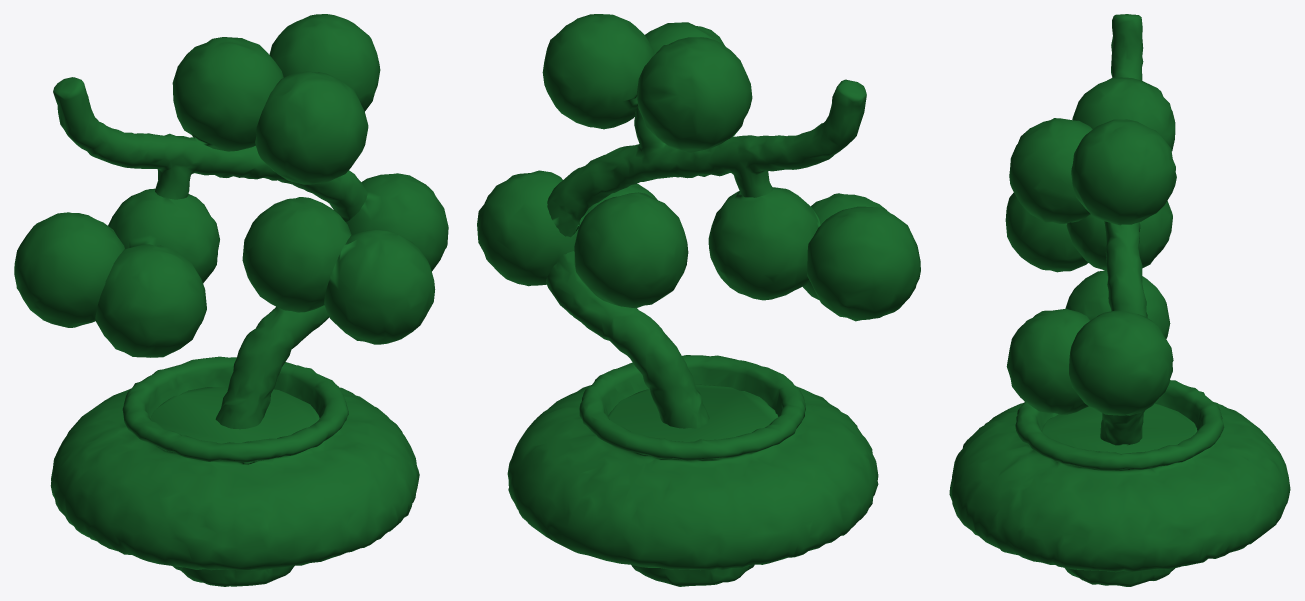
The model's file is sculpted-branches.glb.
3 views of the same model, side by side, from view 1: azimuth 30°, elevation 25°; view 2: azimuth 150°, elevation 25°; view 3: azimuth 270°, elevation 25° (orthographic). The views are drawn at different scales.
Parts seen in each view (by area): view 1: Sculpted branches / web; view 2: Sculpted branches / web; view 3: Sculpted branches / web.
Boxes of the visible parts, x1,y1,x2,y2 form: Sculpted branches / web: (14,14,448,586); Sculpted branches / web: (477,14,920,586); Sculpted branches / web: (949,14,1290,586).
Size of the model in its own units: 2.3 by 2.71 by 1.74.
